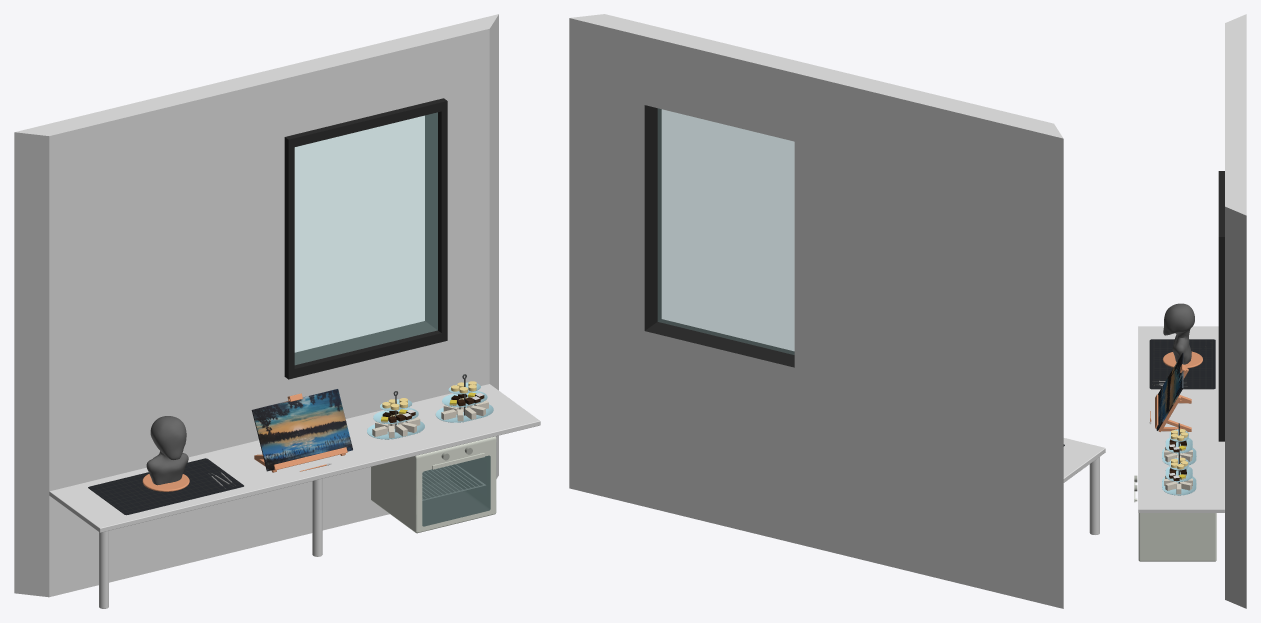
Rendered from CubeRoom_Hobby.glb.
The picture shows the model from 3 angles, left to right: view 1: azimuth 30°, elevation 25°; view 2: azimuth 150°, elevation 25°; view 3: azimuth 270°, elevation 25°; orthographic projection. The views are drawn at different scales.
Visible parts, largest first — view 1: HobbyWall, HobbyTable, Oven, Painting, CuttingMat, ServingTray, BustSculpt, HobbyTableLegs; view 2: HobbyWall, HobbyTable, HobbyTableLegs; view 3: HobbyWall, HobbyTable, Oven, CuttingMat, ServingTray, Painting, BustSculpt, LazySuzan.
Part boxes in pixels (x1,y1,x2,y2): HobbyWall: (14, 14, 498, 597); HobbyTable: (49, 384, 540, 532); Oven: (371, 436, 496, 533); Painting: (251, 389, 352, 472); CuttingMat: (88, 458, 243, 515); ServingTray: (367, 374, 493, 439); BustSculpt: (146, 416, 188, 485); HobbyTableLegs: (99, 478, 322, 608); HobbyWall: (569, 14, 1063, 608); HobbyTable: (1063, 438, 1105, 482); HobbyTableLegs: (1089, 457, 1099, 534); HobbyWall: (1218, 14, 1246, 608); HobbyTable: (1138, 326, 1224, 512); Oven: (1138, 513, 1216, 561); CuttingMat: (1149, 339, 1215, 389); ServingTray: (1162, 423, 1196, 495); Painting: (1155, 353, 1191, 431); BustSculpt: (1163, 303, 1194, 364); LazySuzan: (1162, 351, 1202, 368).
Size of the model in its own units: 11 by 10 by 2.59.
33 materials, 2 textured.
